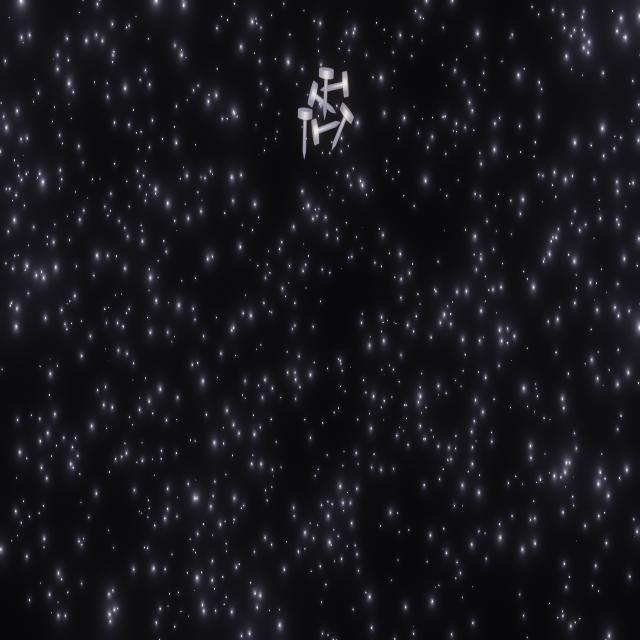large_debris: (292, 62, 364, 160)
